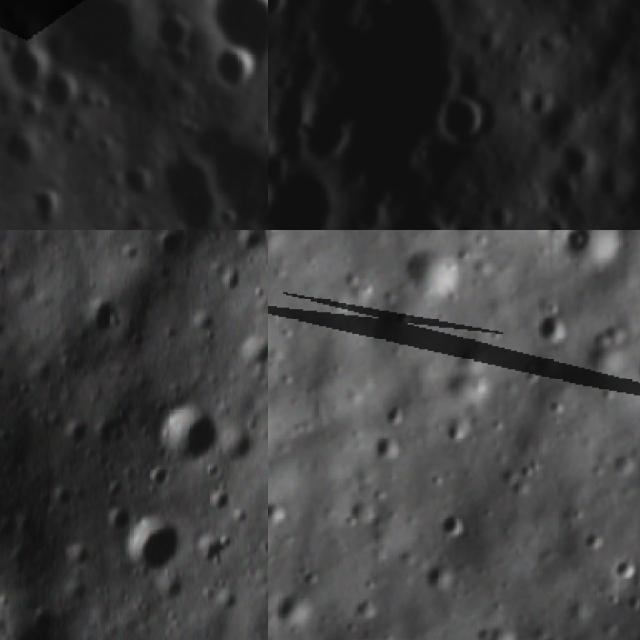crater: (268, 151, 360, 230), (423, 82, 503, 164), (149, 152, 226, 230), (164, 402, 232, 472), (396, 242, 466, 306), (530, 230, 627, 274), (366, 192, 469, 230), (211, 0, 268, 65), (122, 516, 180, 577), (1, 36, 54, 99), (207, 46, 262, 98), (146, 1, 201, 53), (548, 135, 600, 186), (41, 70, 90, 120), (0, 125, 51, 171), (527, 305, 576, 343), (192, 529, 235, 571), (27, 184, 65, 230), (117, 163, 152, 204), (89, 291, 122, 329), (180, 309, 222, 338), (160, 45, 196, 78), (156, 576, 194, 606), (63, 537, 96, 571), (239, 334, 268, 369), (268, 0, 299, 31), (215, 584, 247, 612), (206, 486, 239, 511), (66, 419, 92, 448), (56, 483, 82, 510), (149, 393, 173, 422), (106, 506, 130, 534), (148, 464, 177, 486), (109, 421, 131, 450), (215, 204, 238, 230), (136, 424, 158, 443), (233, 506, 251, 528), (205, 460, 225, 479), (0, 518, 4, 583), (0, 362, 8, 385)
